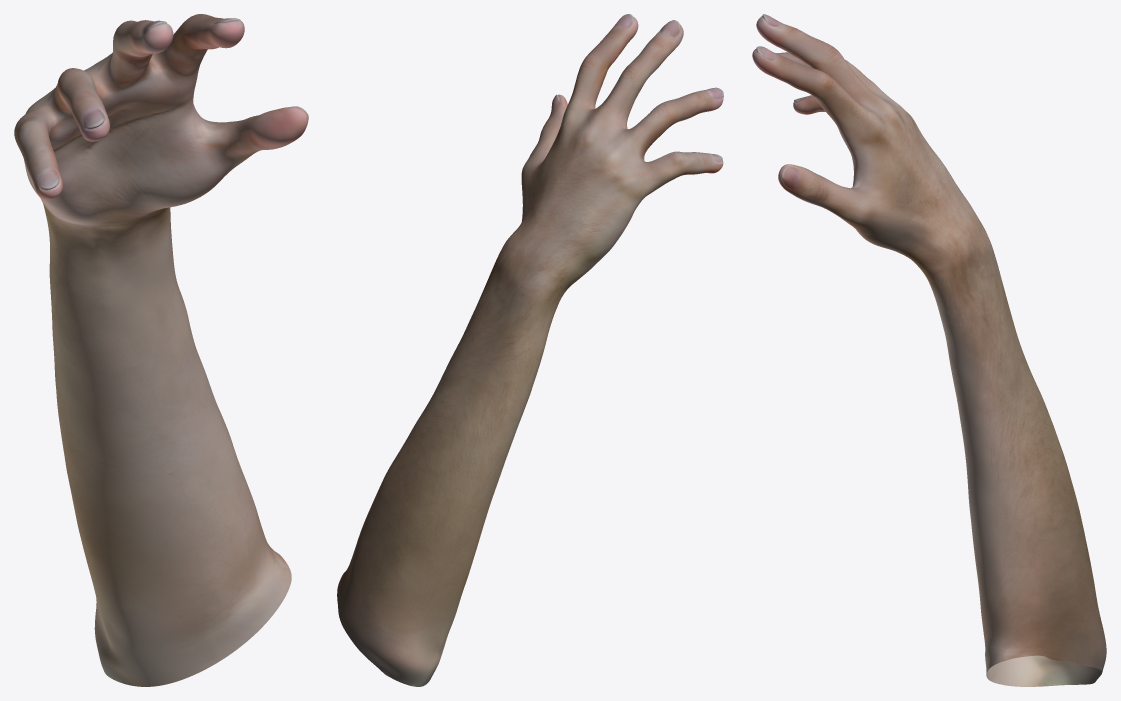
File: arm.glb
3 views of the same model, side by side, from view 1: azimuth 30°, elevation 25°; view 2: azimuth 150°, elevation 25°; view 3: azimuth 270°, elevation 25° (orthographic). The views are drawn at different scales.
Parts seen in each view (by area): view 1: Group2; view 2: Group2; view 3: Group2.
Boxes of the visible parts, x1,y1,x2,y2 form: Group2: [14, 14, 308, 686]; Group2: [337, 14, 723, 686]; Group2: [752, 14, 1106, 686].
Bounding box in the file's own units: 0.8845 × 1.82 × 0.9504.
1 material, 1 textured.
